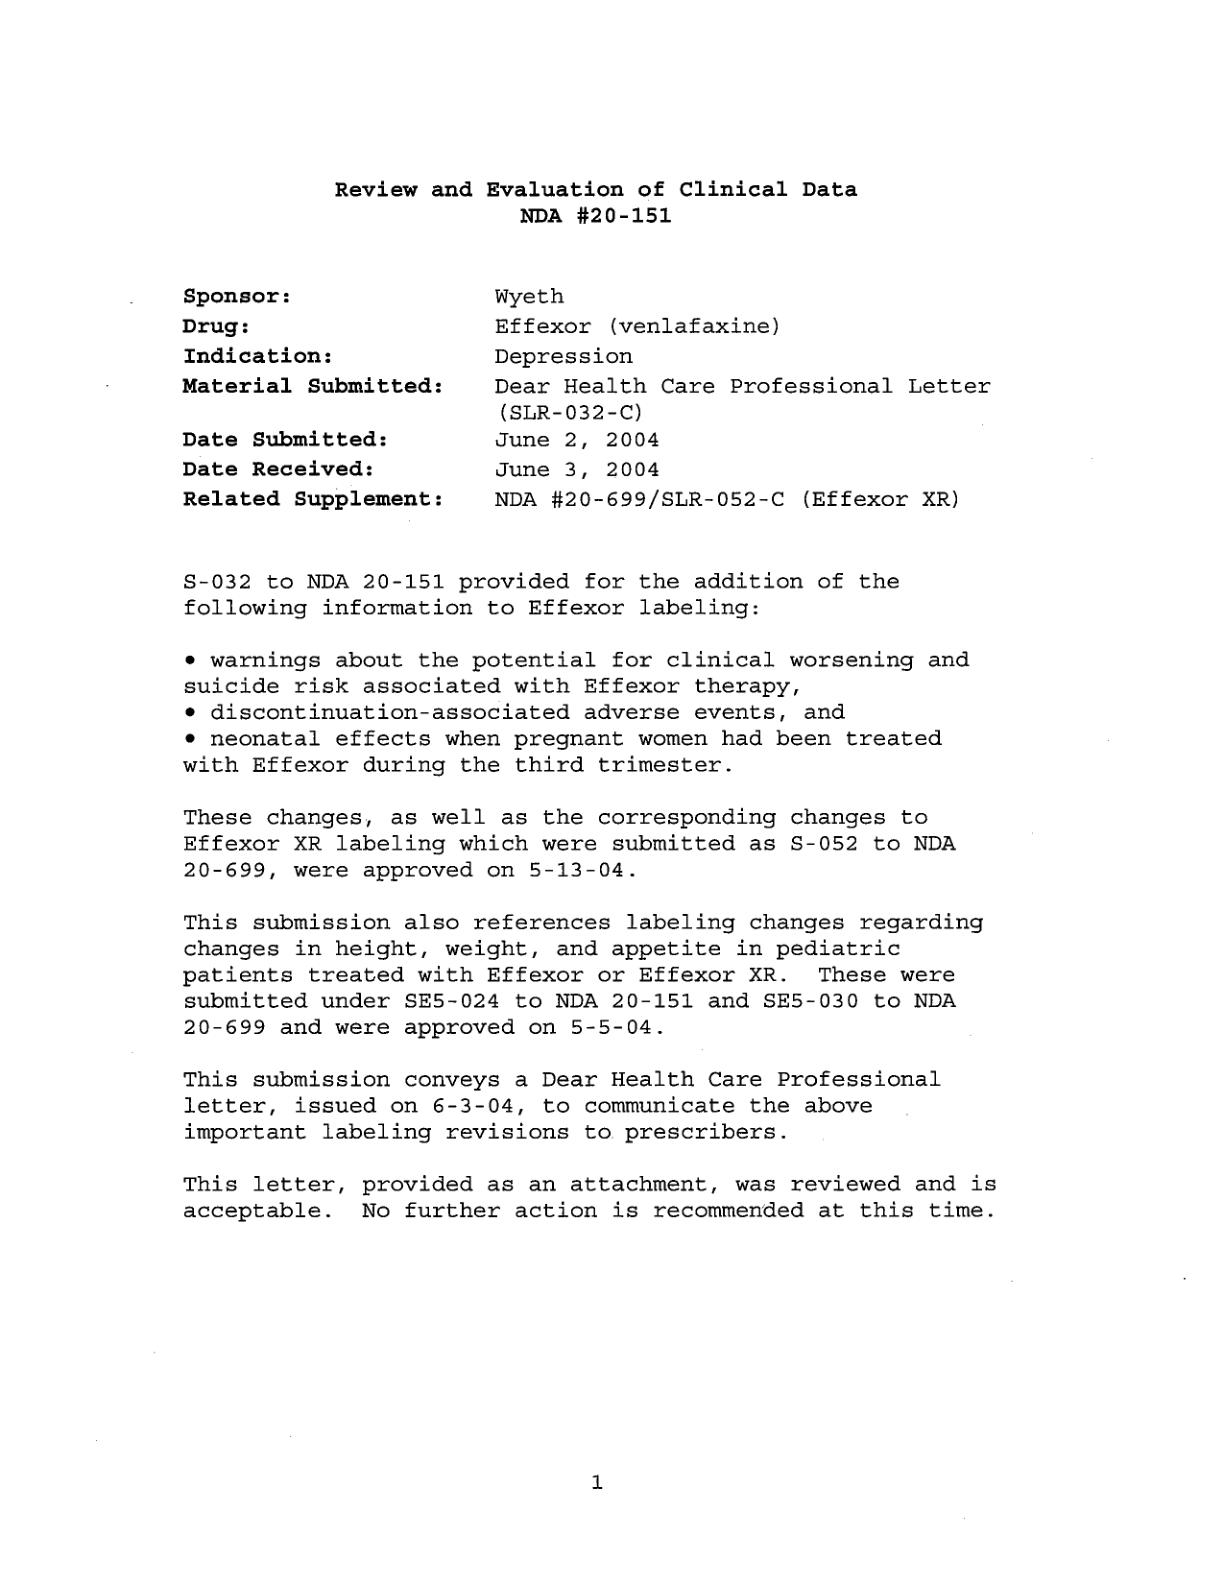nolines: (179, 285, 990, 510)
